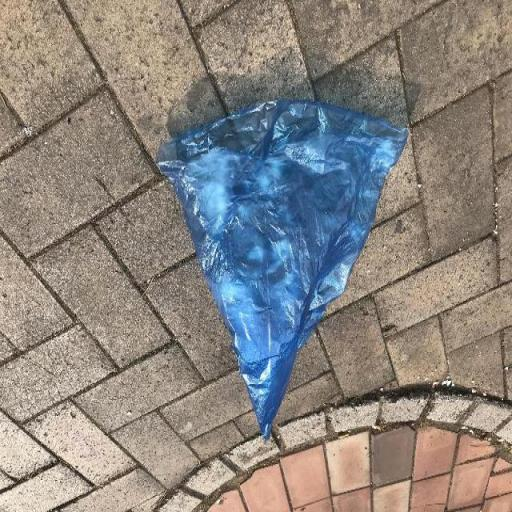plastic-bag: (154, 96, 416, 445)
